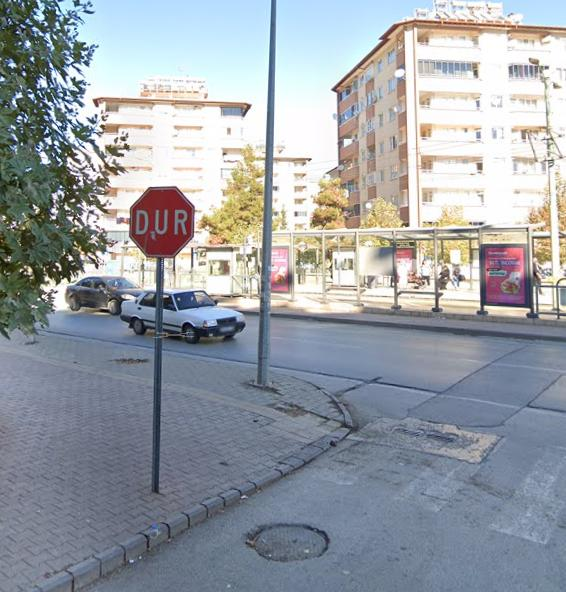stop: (131, 186, 193, 258)
